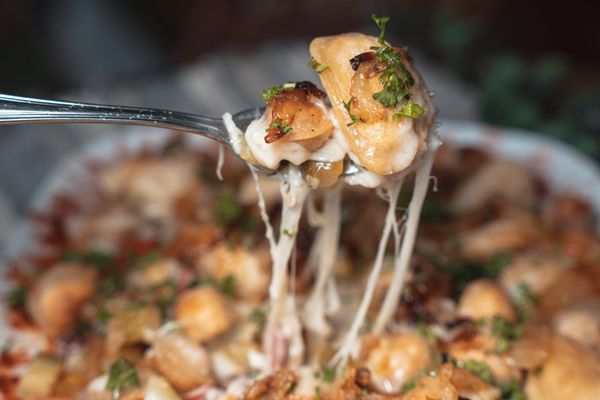soup: (308, 31, 438, 177)
